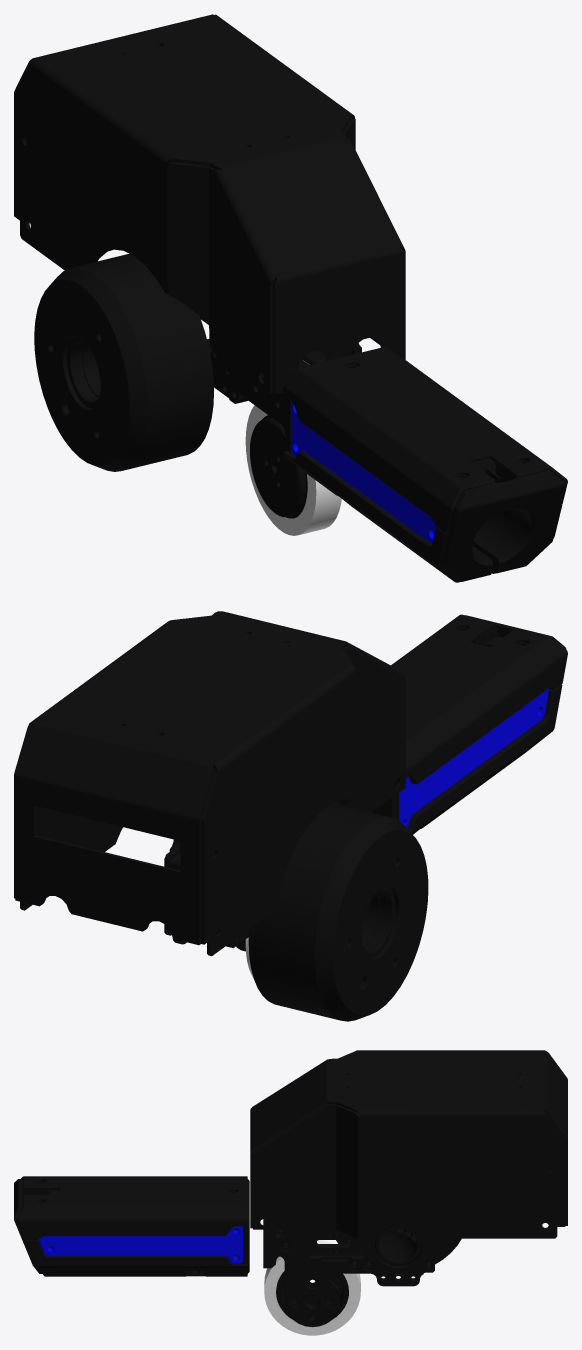
Rendered from GimbalPitch.fbx.
3 views of the same model, one above another, from view 1: azimuth 30°, elevation 25°; view 2: azimuth 150°, elevation 25°; view 3: azimuth 270°, elevation 25° (orthographic). The views are drawn at different scales.
Visible parts, largest first — view 1: 曲面-输入6, 输入590, 输入725, 输入703, 输入734, 输入453, 输入708, 输入709, 输入441, 输入443; view 2: 曲面-输入6, 输入725, 输入590, 输入734, 输入703, 输入453; view 3: 曲面-输入6, 输入590, 输入440, 输入703, 输入690, 输入709, 输入443, 输入441, 输入708, 输入734.
Boxes of the visible parts, left/top/right/bottom form: 曲面-输入6: left=14, top=14, right=405, bottom=394; 输入590: left=283, top=346, right=567, bottom=532; 输入725: left=34, top=266, right=150, bottom=471; 输入703: left=283, top=398, right=566, bottom=582; 输入734: left=73, top=253, right=213, bottom=469; 输入453: left=291, top=400, right=436, bottom=543; 输入708: left=250, top=415, right=307, bottom=518; 输入709: left=245, top=405, right=341, bottom=535; 输入441: left=226, top=351, right=326, bottom=444; 输入443: left=200, top=316, right=229, bottom=398; 曲面-输入6: left=14, top=611, right=405, bottom=956; 输入725: left=312, top=816, right=428, bottom=1021; 输入590: left=391, top=614, right=567, bottom=784; 输入734: left=248, top=803, right=389, bottom=1019; 输入703: left=333, top=615, right=566, bottom=834; 输入453: left=399, top=688, right=548, bottom=827; 曲面-输入6: left=250, top=1050, right=567, bottom=1238; 输入590: left=18, top=1176, right=247, bottom=1239; 输入440: left=274, top=1225, right=434, bottom=1327; 输入703: left=14, top=1179, right=249, bottom=1276; 输入690: left=38, top=1226, right=242, bottom=1263; 输入709: left=264, top=1240, right=360, bottom=1335; 输入443: left=362, top=1225, right=432, bottom=1266; 输入441: left=263, top=1219, right=361, bottom=1268; 输入708: left=276, top=1271, right=348, bottom=1319; 输入734: left=336, top=1228, right=461, bottom=1264.
Bounding box in the file's own units: 3.54 × 5.08 × 10.16.
